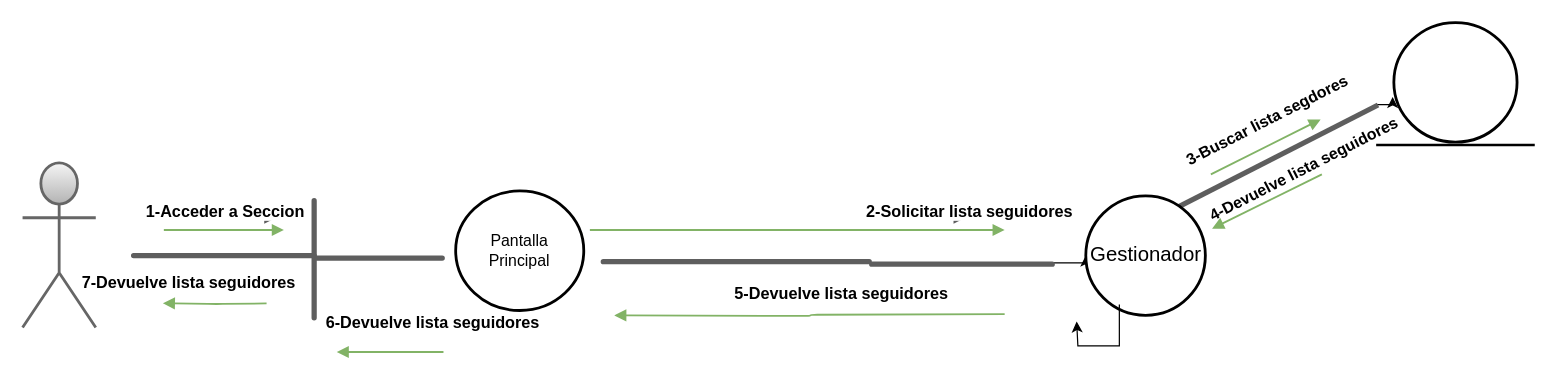
Image size: 1557x383. Some labels were removed from this diagram. Each missing label, with the centre of its shape:
"Perfil" belongs at [1455,82].
"Usuario" belongs at [59,244].
